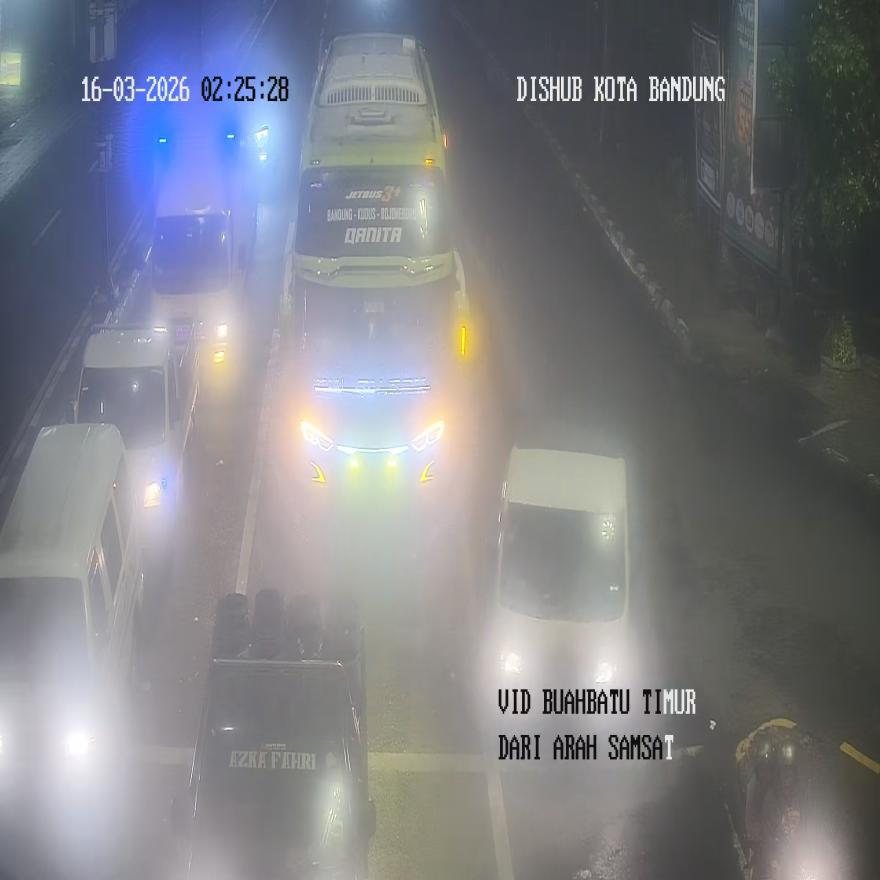Mobil: (170, 590, 376, 877), (0, 424, 144, 808), (484, 442, 632, 720), (72, 316, 201, 555)
Truk berat: (274, 32, 466, 512)
Truk ringan: (145, 160, 258, 389)
